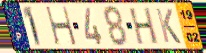1: (22, 5, 43, 47)
4: (84, 6, 104, 46)
8: (103, 4, 129, 48)
H: (44, 5, 79, 47), (129, 6, 160, 46)
K: (154, 7, 183, 46)
